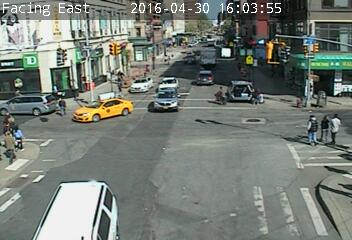neg: (112, 140, 146, 186), (208, 151, 242, 195), (209, 83, 240, 125), (262, 36, 289, 72), (21, 44, 45, 76), (163, 66, 186, 96), (62, 40, 84, 70), (101, 30, 123, 59), (97, 77, 116, 102), (258, 176, 275, 199)
pos: (291, 110, 318, 145), (1, 125, 25, 159), (329, 109, 351, 139), (312, 111, 334, 139), (54, 93, 70, 115)
